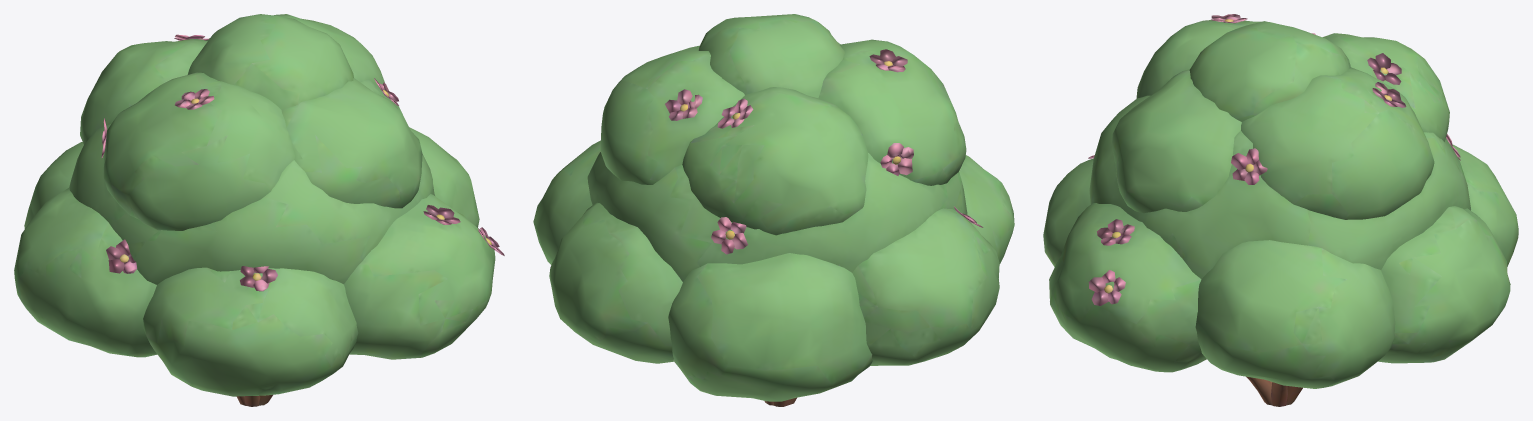
File: bush.glb
3 renders of one model, left to right at view 1: azimuth 30°, elevation 25°; view 2: azimuth 150°, elevation 25°; view 3: azimuth 270°, elevation 25°, orthographic.
Visible parts, largest first — view 1: bush_body; view 2: bush_body; view 3: bush_body.
Boxes of the visible parts, left/top/right/bottom form: bush_body: left=14, top=14, right=504, bottom=406; bush_body: left=533, top=14, right=1014, bottom=406; bush_body: left=1043, top=14, right=1518, bottom=406.
Size of the model in its own units: 1.33 by 1.09 by 1.26.
Materials: 1 (1 with a texture image).
